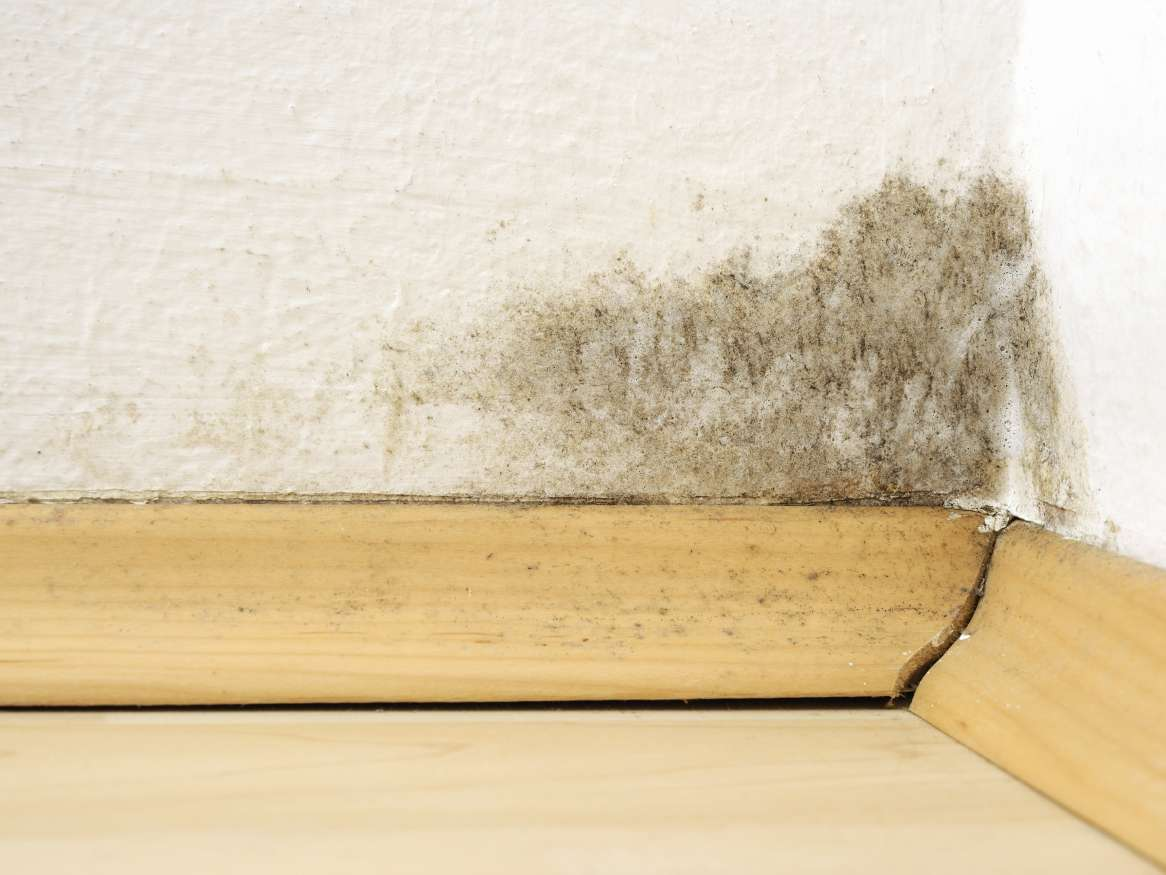schimmel: (805, 175, 1008, 495), (561, 271, 785, 497), (1015, 285, 1055, 415), (503, 344, 538, 488), (1030, 449, 1084, 520)
